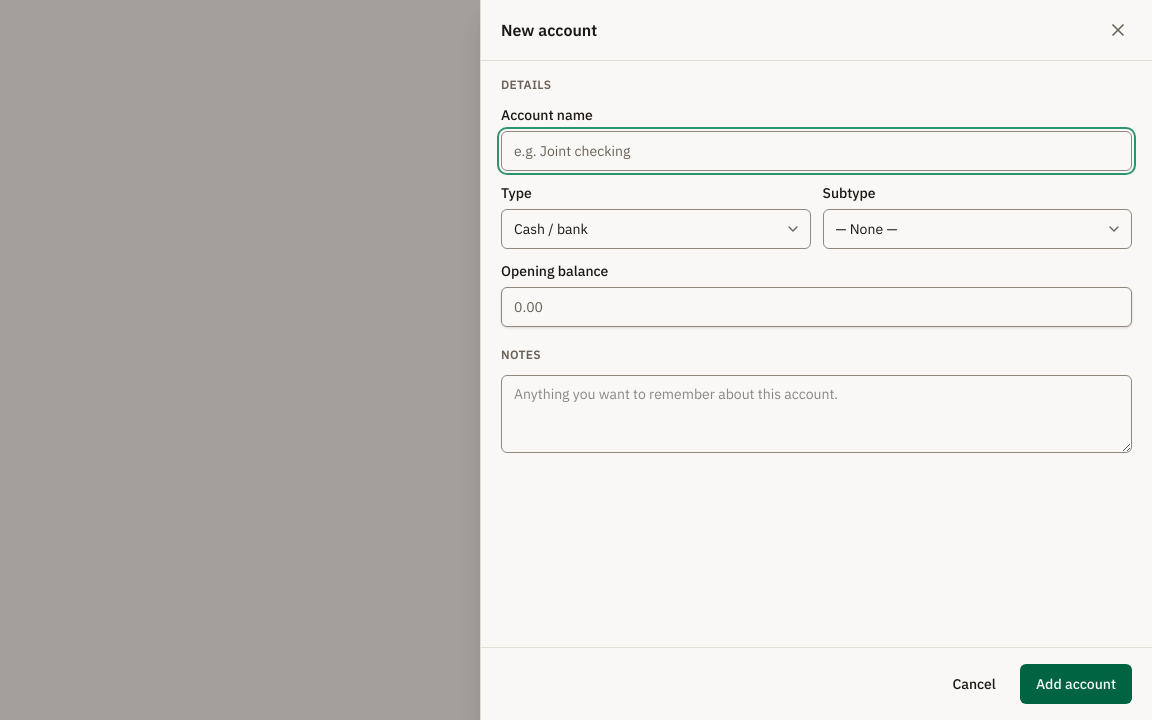
Test: choosing a credit-card type reveals the inline Debt section
The image size is (1152, 720).
Select "Credit card / line of credit" in the dropdown labelled "Type": (656, 229) [501, 209, 810, 249]
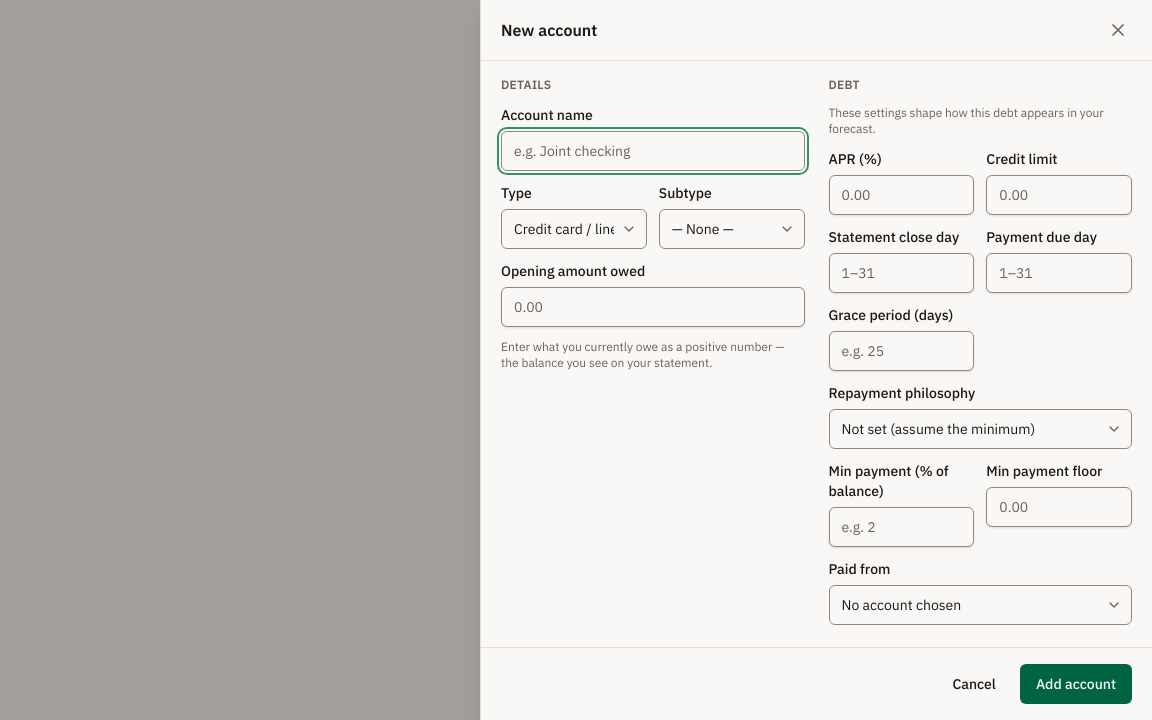
Check: the heading "Debt" is shown, box [828, 77, 860, 92]
Check: the text "APR (%)" is shown, box [828, 150, 882, 168]
Check: the text "Credit limit" is shown, box [986, 150, 1058, 168]
